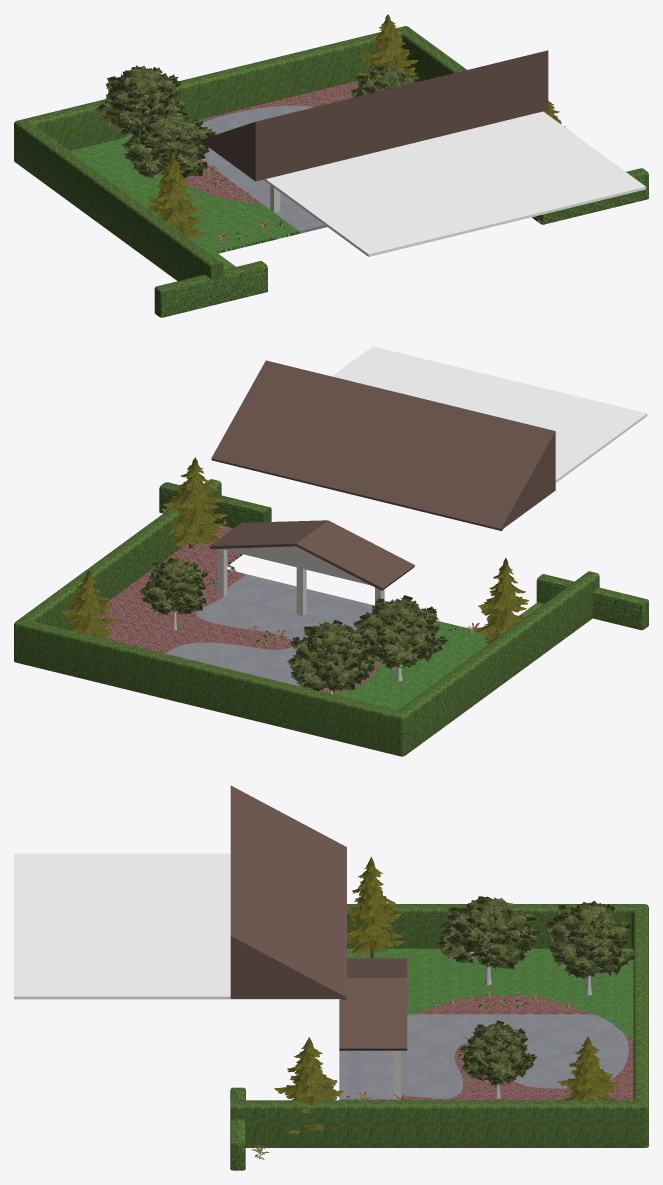
Rendered from KBH_Interior_model2345_yard.gltf.
3 views of the same model, one above another, from view 1: azimuth 30°, elevation 25°; view 2: azimuth 150°, elevation 25°; view 3: azimuth 270°, elevation 25° (orthographic). The views are drawn at different scales.
Visible parts, largest first — view 1: Line23743, Line23080, Line23742, Line23751, tree6_leaves_001, tree6_leaves_0, Box8360, Leaves/001_Leavs_002, Box8204, Leaves/001_Leavs_0, Line23747, Box8308 (+3 smaller); view 2: Line23742, Line23080, Line23743, Line23749, Line23752, Box8204, Line23751, tree6_leaves_0, Line23747, tree6_leaves_001, Leaves/001_Leavs_001, tree6_leaves_002 (+5 smaller); view 3: Line23743, Line23080, Line23742, Line23751, Box8204, Line23752, tree6_leaves_001, tree6_leaves_0, Line23747, tree6_leaves_002, Line23749, Leaves/001_Leavs_002 (+4 smaller).
Part boxes in pixels (x1,y1,x2,y2): Line23743: (263, 111, 645, 256); Line23080: (14, 26, 466, 280); Line23742: (200, 50, 548, 181); Line23751: (69, 116, 299, 269); tree6_leaves_001: (122, 110, 216, 178); tree6_leaves_0: (95, 65, 186, 138); Box8360: (154, 261, 267, 317); Leaves/001_Leavs_002: (147, 152, 205, 237); Box8204: (203, 108, 307, 204); Leaves/001_Leavs_0: (358, 14, 418, 82); Line23747: (197, 105, 326, 233); Box8308: (535, 168, 648, 224); Line23742: (211, 360, 555, 530); Line23080: (14, 479, 599, 756); Line23743: (332, 346, 647, 482); Line23749: (95, 523, 292, 653); Line23752: (209, 520, 414, 590); Box8204: (170, 600, 321, 686); Line23751: (333, 602, 543, 709); tree6_leaves_0: (287, 620, 375, 693); Line23747: (165, 574, 374, 688); tree6_leaves_001: (353, 595, 448, 670); Leaves/001_Leavs_001: (163, 457, 226, 546); tree6_leaves_002: (139, 557, 208, 616); Line23743: (14, 853, 340, 999); Line23080: (230, 904, 648, 1147); Line23742: (230, 785, 346, 1000); Line23751: (347, 948, 633, 1039); Box8204: (407, 1016, 622, 1096); Line23752: (339, 958, 407, 1050); tree6_leaves_001: (435, 896, 540, 970); tree6_leaves_0: (544, 900, 635, 978); Line23747: (339, 1014, 628, 1099); tree6_leaves_002: (459, 1020, 537, 1087); Line23749: (339, 1034, 633, 1100); Leaves/001_Leavs_002: (347, 856, 404, 955).
Size of what is drawn, in the model's own units: 38.42 by 13.2 by 41.
